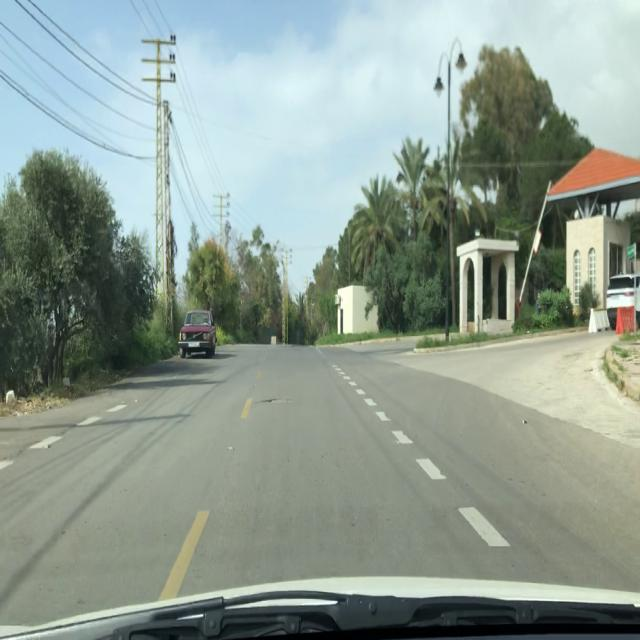Pothole: (263, 397, 297, 405)
